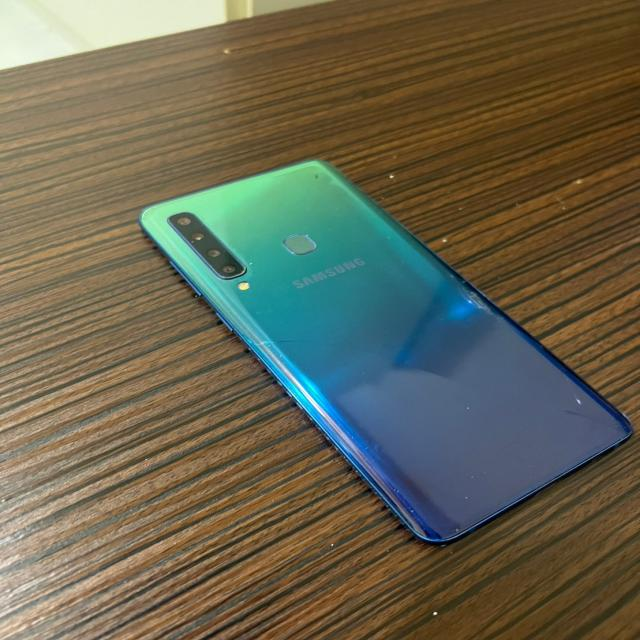Smartphone: (140, 160, 632, 544)
